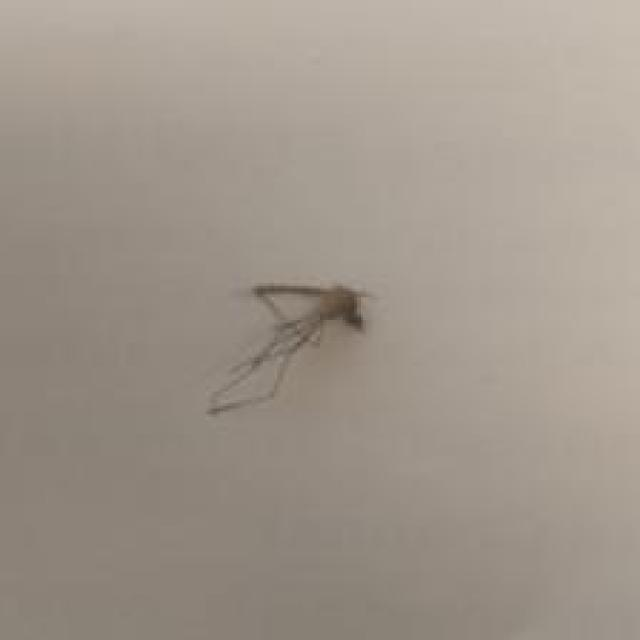Culex: (204, 280, 376, 417)
